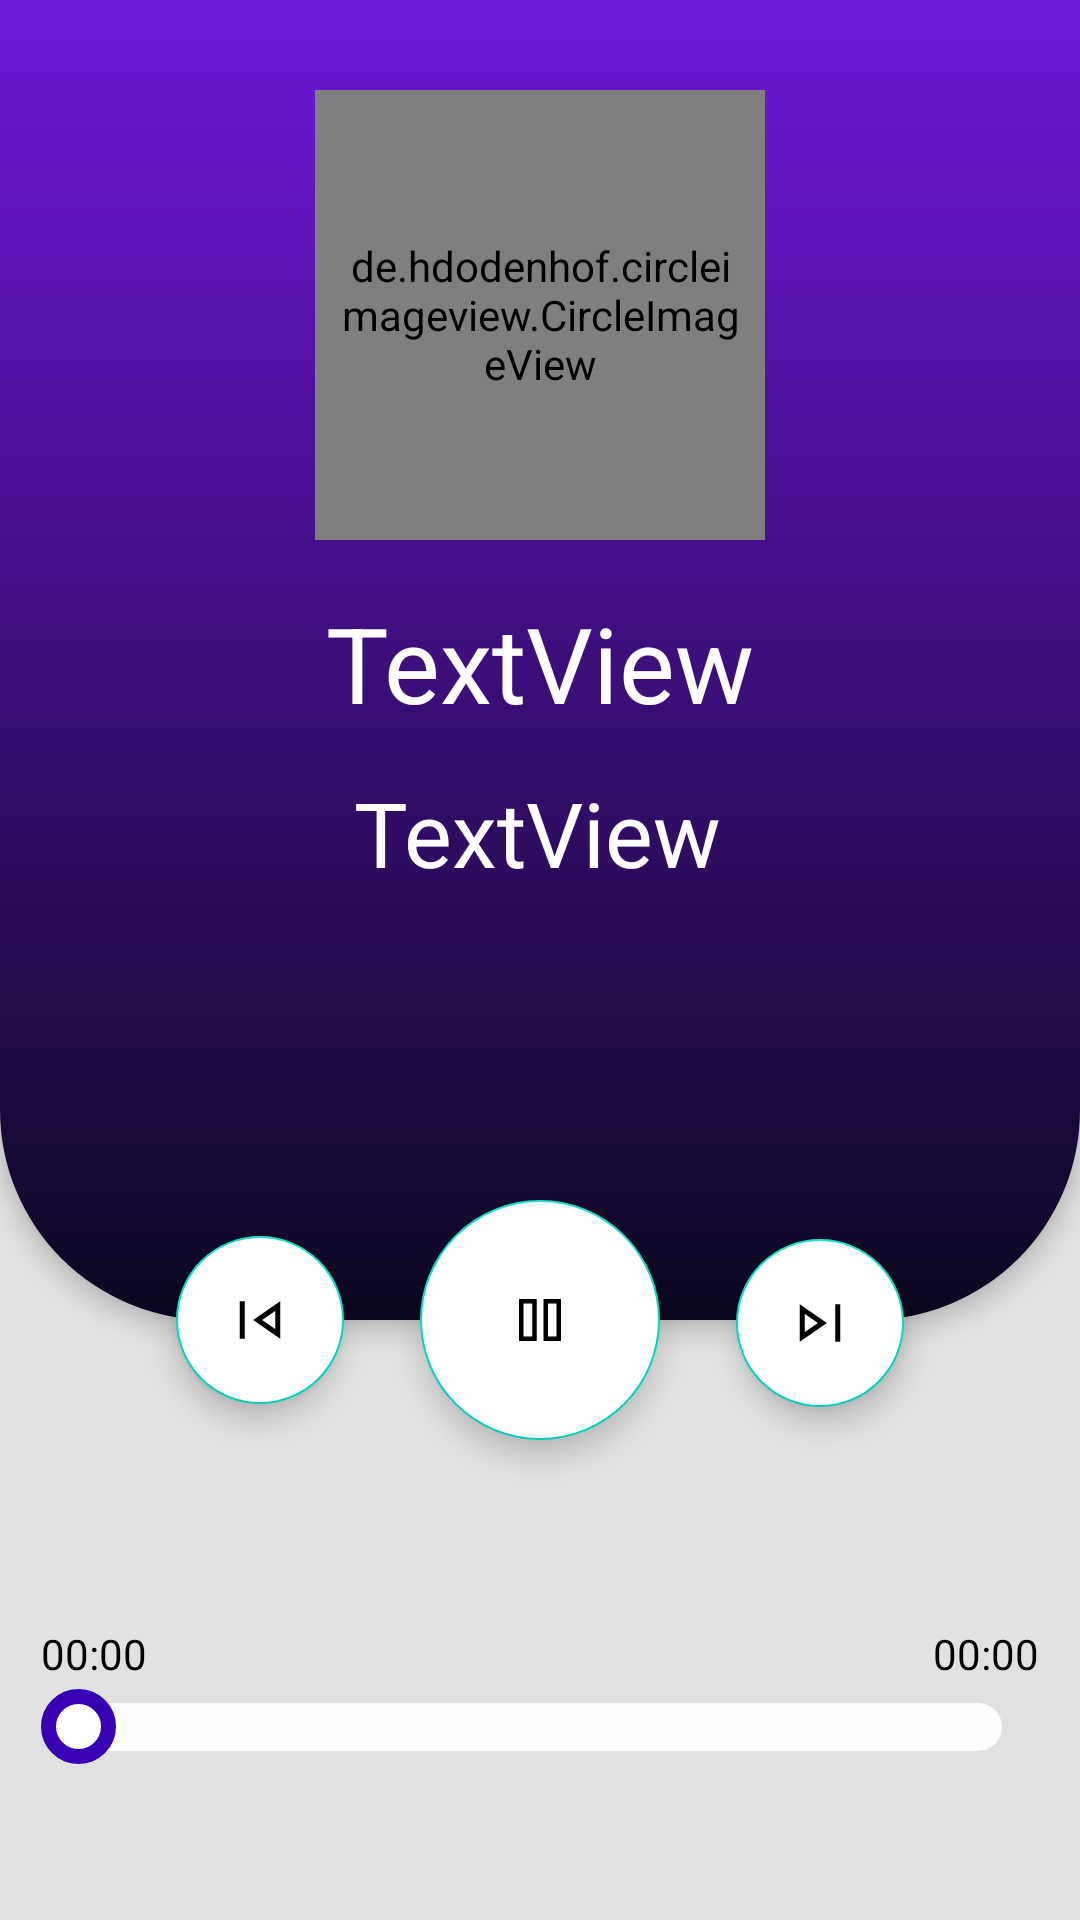

Screen size 1080px×1920px. Icon name, then its center in pixels as point (x, y):
pause: point (540, 1320)
skip next: point (820, 1323)
skip previous: point (260, 1320)
